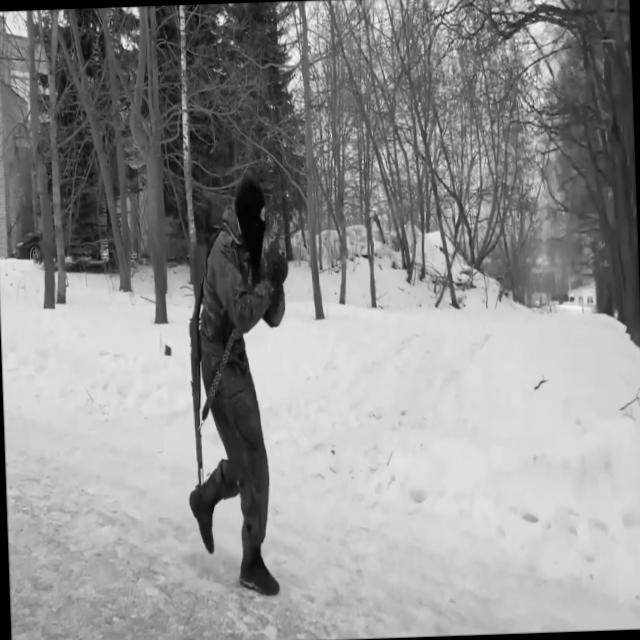gun: (183, 240, 216, 490), (262, 216, 290, 268)
person with a gun: (177, 171, 300, 598)
